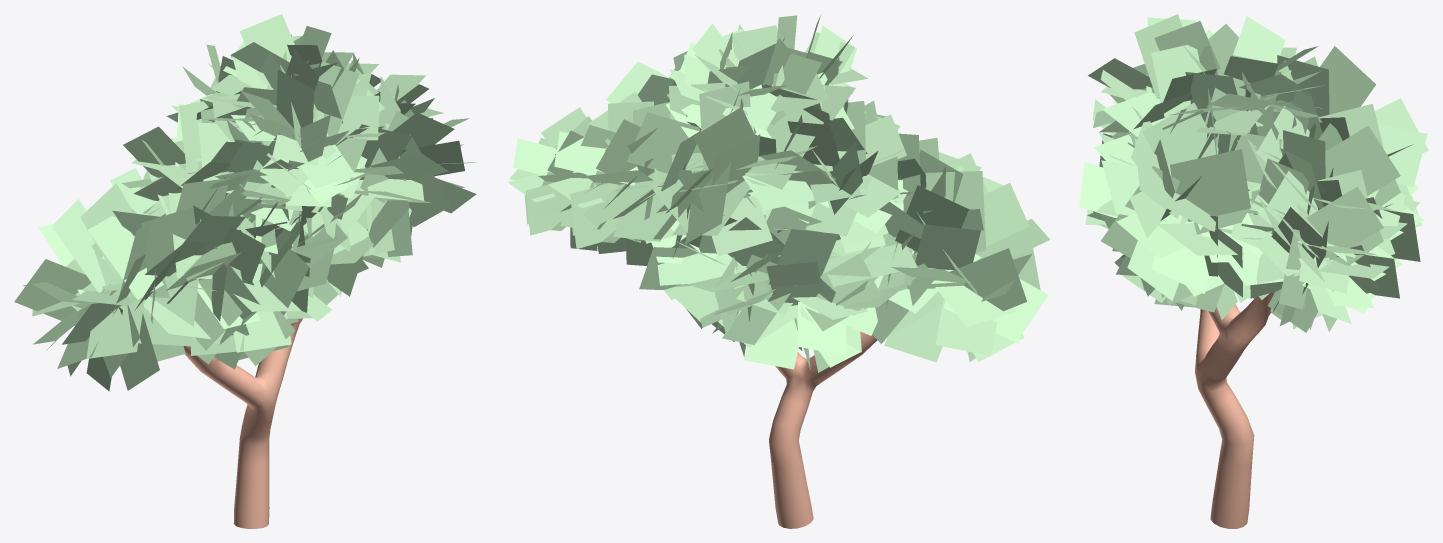
Rendered from tree_08.fbx.
The picture shows the model from 3 angles, left to right: view 1: azimuth 30°, elevation 25°; view 2: azimuth 150°, elevation 25°; view 3: azimuth 270°, elevation 25°; orthographic projection. The views are drawn at different scales.
Visible parts, largest first — view 1: Tree_08; view 2: Tree_08; view 3: Tree_08.
Boxes of the visible parts, box(x1,y1,x2,y2) form: Tree_08: box(14, 14, 476, 528); Tree_08: box(508, 15, 1050, 528); Tree_08: box(1079, 14, 1428, 528).
Bounding box in the file's own units: 772 × 770 × 472.
